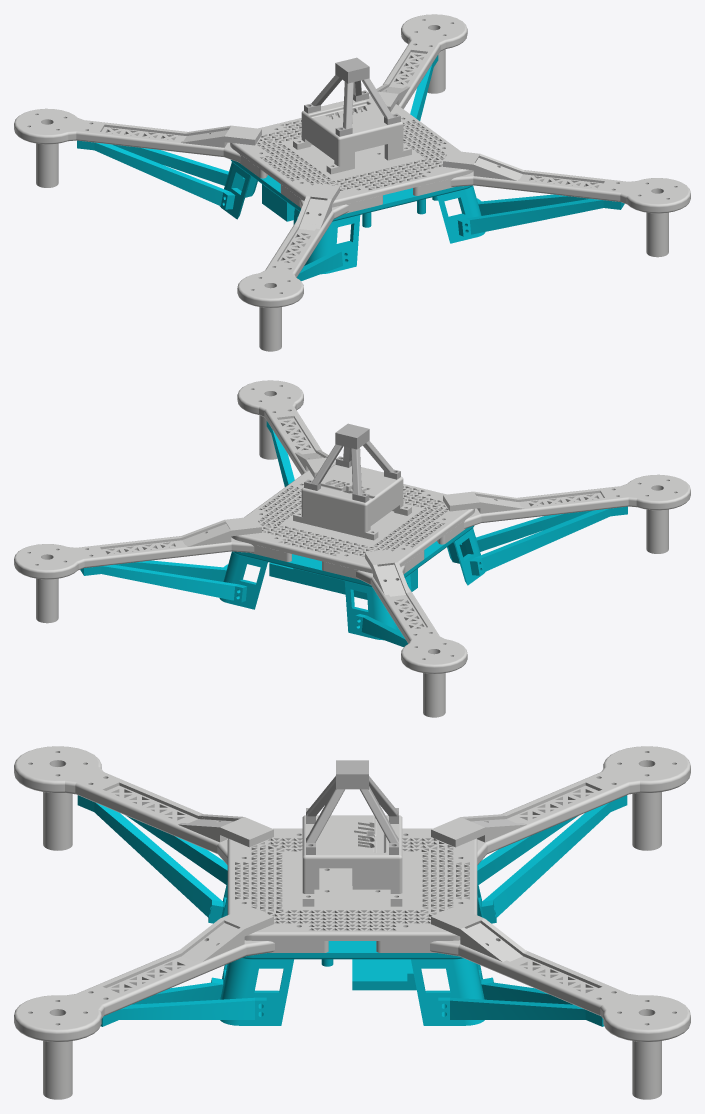
3 views of the same model, one above another, from view 1: azimuth 30°, elevation 25°; view 2: azimuth 150°, elevation 25°; view 3: azimuth 270°, elevation 25° (orthographic). The views are drawn at different scales.
Visible parts, largest first — view 1: Body1:14, Body1, Body1:2, Body1:4, Body1:1, Body1:10, Body1:3, Body1:11, Body1:13, Body1:15, Body1:6, Body1:7 (+3 smaller); view 2: Body1:14, Body1:3, Body1:4, Body1:1, Body1:2, Body1:10, Body1, Body1:12, Body1:9, Body1:15, Body1:5, Body1:8 (+3 smaller); view 3: Body1:14, Body1, Body1:3, Body1:4, Body1:1, Body1:2, Body1:10, Body1:11, Body1:12, Body1:9, Body1:13, Body1:15 (+4 smaller).
Part boxes in pixels (box(x1,y1,x2,y2)): Body1:14: box(230, 104, 473, 207); Body1: box(413, 170, 690, 257); Body1:2: box(14, 108, 267, 187); Body1:4: box(220, 160, 485, 274); Body1:1: box(237, 184, 382, 351); Body1:10: box(293, 98, 411, 174); Body1:3: box(383, 14, 467, 108); Body1:11: box(77, 140, 235, 209); Body1:13: box(457, 194, 624, 236); Body1:15: box(304, 57, 400, 136); Body1:6: box(443, 150, 524, 180); Body1:7: box(181, 125, 261, 147); Body1:14: box(231, 470, 474, 573); Body1:3: box(14, 536, 291, 623); Body1:4: box(219, 526, 485, 640); Body1:1: box(437, 474, 690, 553); Body1:2: box(322, 550, 467, 717); Body1:10: box(293, 464, 411, 540); Body1: box(237, 380, 321, 474); Body1:12: box(470, 506, 627, 575); Body1:9: box(80, 560, 247, 602); Body1:15: box(304, 423, 400, 502); Body1:5: box(180, 516, 261, 546); Body1:8: box(443, 491, 523, 513); Body1:14: box(227, 828, 477, 940); Body1: box(14, 940, 328, 1099); Body1:3: box(376, 940, 690, 1099); Body1:4: box(220, 880, 484, 1025); Body1:1: box(14, 746, 227, 864); Body1:2: box(477, 746, 690, 864); Body1:10: box(302, 815, 402, 906); Body1:11: box(477, 795, 627, 923); Body1:12: box(77, 795, 227, 923); Body1:9: box(438, 977, 603, 1026); Body1:13: box(101, 977, 266, 1026); Body1:15: box(306, 760, 398, 854).
Bounding box in the file's own units: 40.63 × 13.36 × 40.63.
